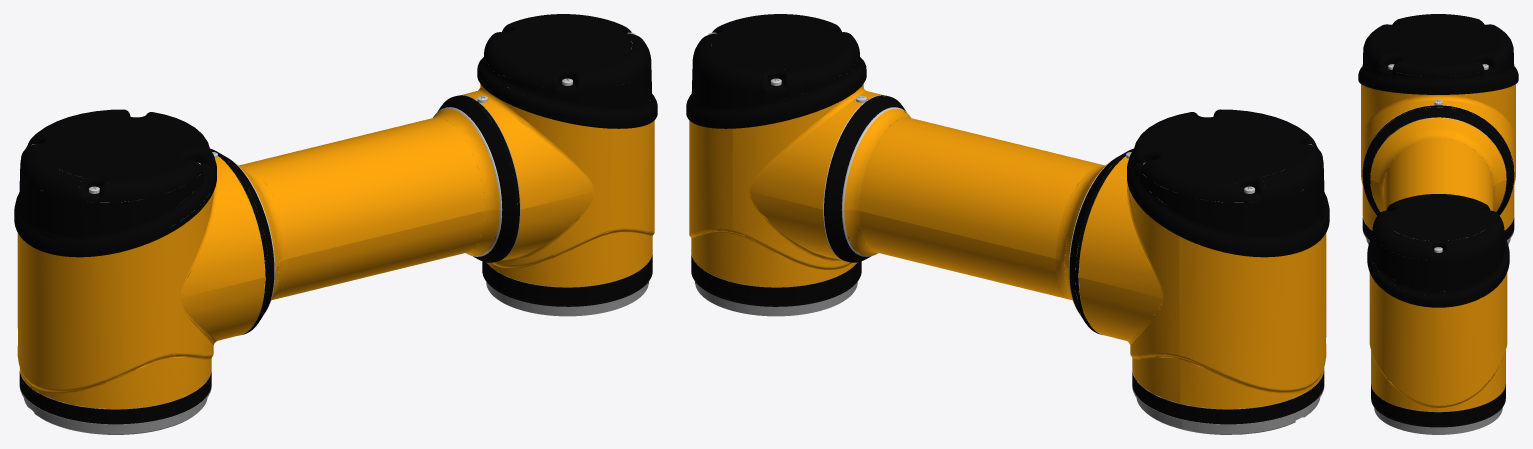
3 renders of one model, left to right at view 1: azimuth 30°, elevation 25°; view 2: azimuth 150°, elevation 25°; view 3: azimuth 270°, elevation 25°, orthographic. The views are drawn at different scales.
Visible parts, largest first — view 1: mesh; view 2: mesh; view 3: mesh.
Boxes of the visible parts, left/top/right/bottom form: mesh: left=14, top=14, right=657, bottom=434; mesh: left=686, top=14, right=1329, bottom=434; mesh: left=1358, top=14, right=1518, bottom=434.
Size of the model in its own units: 0.3637 by 0.1035 by 0.1416.
